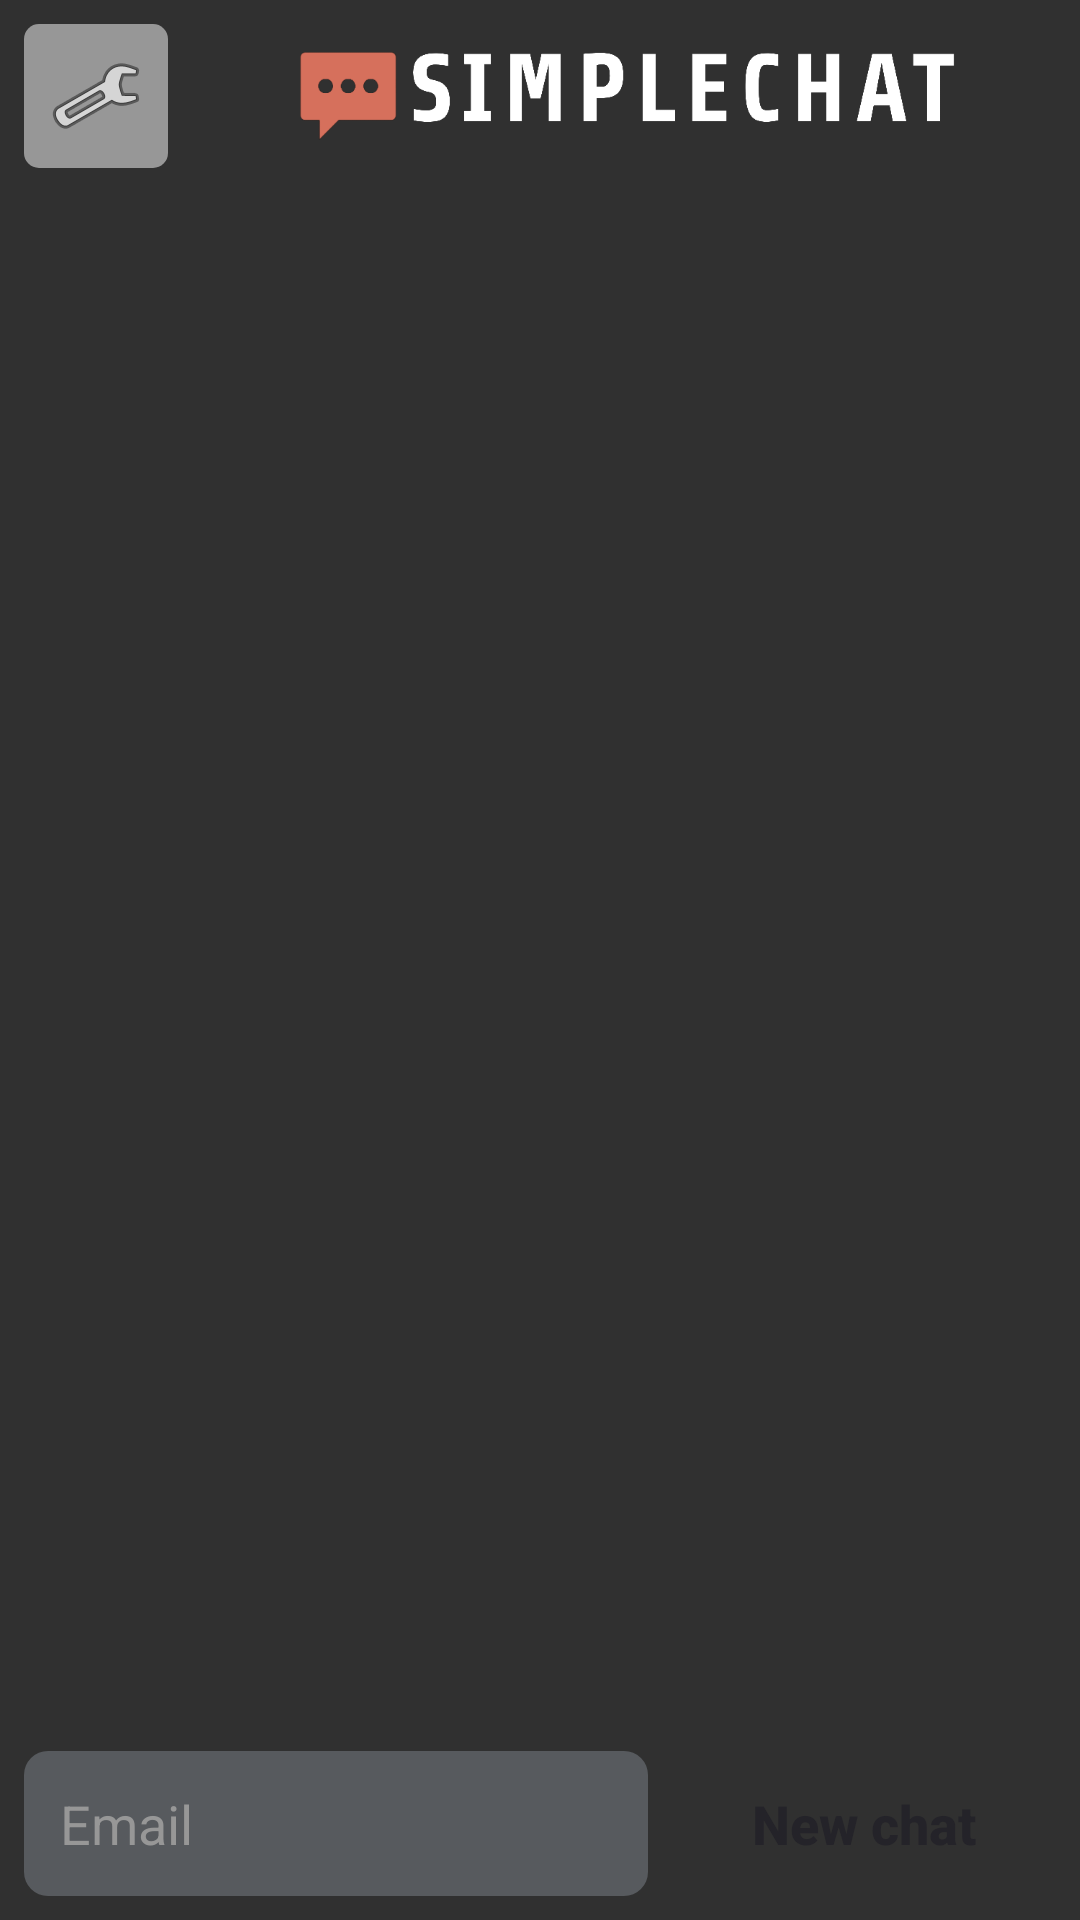

Screen size 1080*1920. Icon name, then its center in pixels as (x,y):
Options: (96,96)
